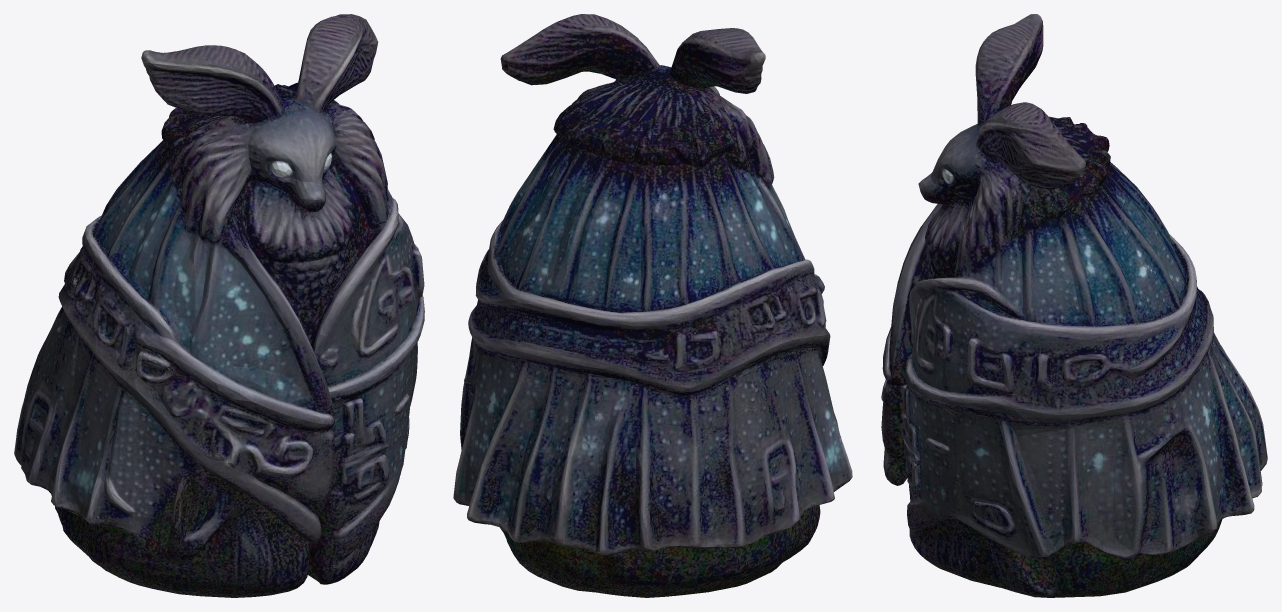
File: voidMoth.glb
The picture shows the model from 3 angles, left to right: view 1: azimuth 30°, elevation 25°; view 2: azimuth 150°, elevation 25°; view 3: azimuth 270°, elevation 25°; orthographic projection. The views are drawn at different scales.
Visible parts, largest first — view 1: world; view 2: world; view 3: world.
Boxes of the visible parts, x1,y1,x2,y2 form: world: (14, 14, 424, 597); world: (453, 14, 852, 597); world: (881, 14, 1267, 597).
Size of the model in its own units: 0.7071 by 0.9981 by 0.7188.
Materials: 1 (1 with a texture image).
